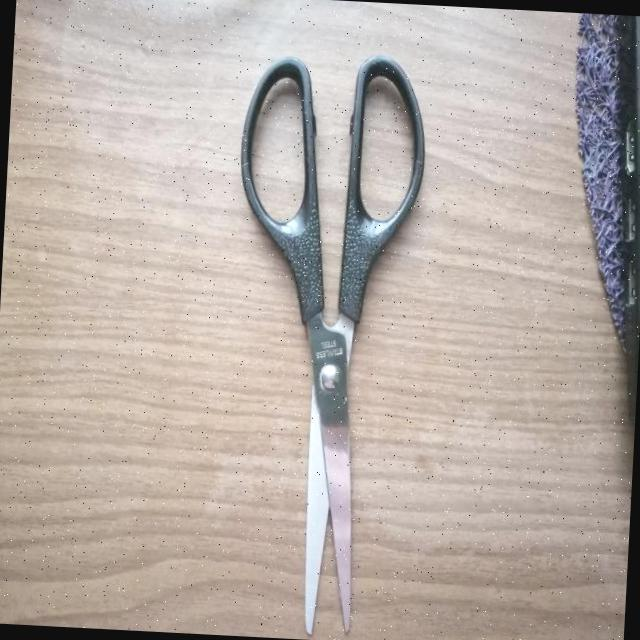scissors: (209, 41, 438, 640)
